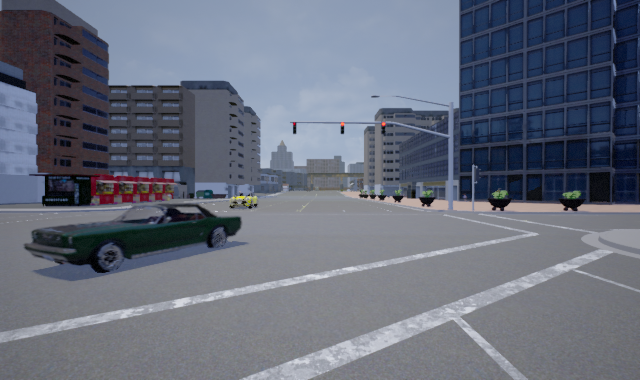vehicle: (19, 200, 244, 282), (228, 192, 258, 210)
